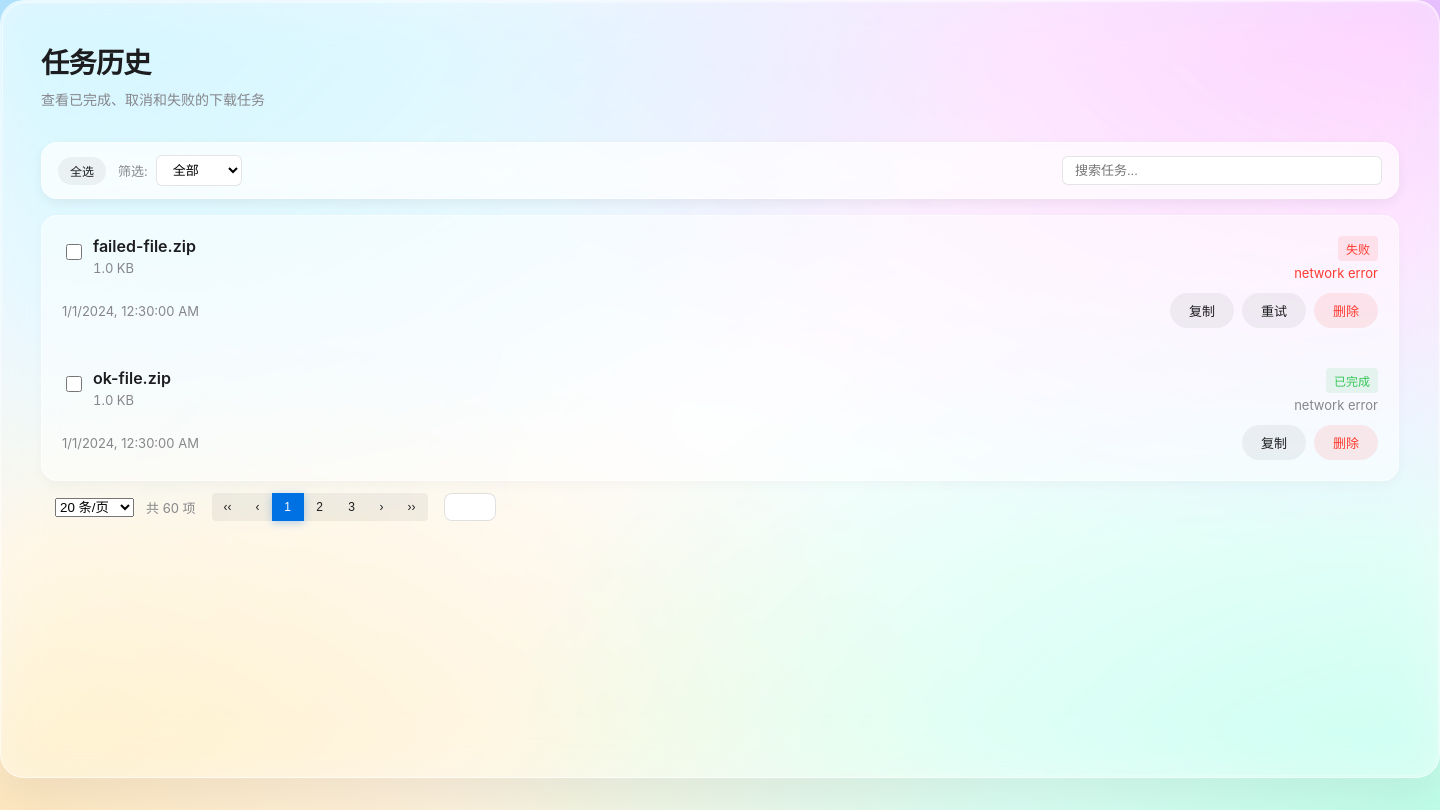
Test: HistoryPage › filter and search › changing page clears stale selection from the previous page
Expected: the heading "failed-file.zip" is shown, 93,236 -> 196,256
Click the checkbox named "选择 failed-file.zip" at {"x": 74, "y": 252}, box 66,244 -> 82,260
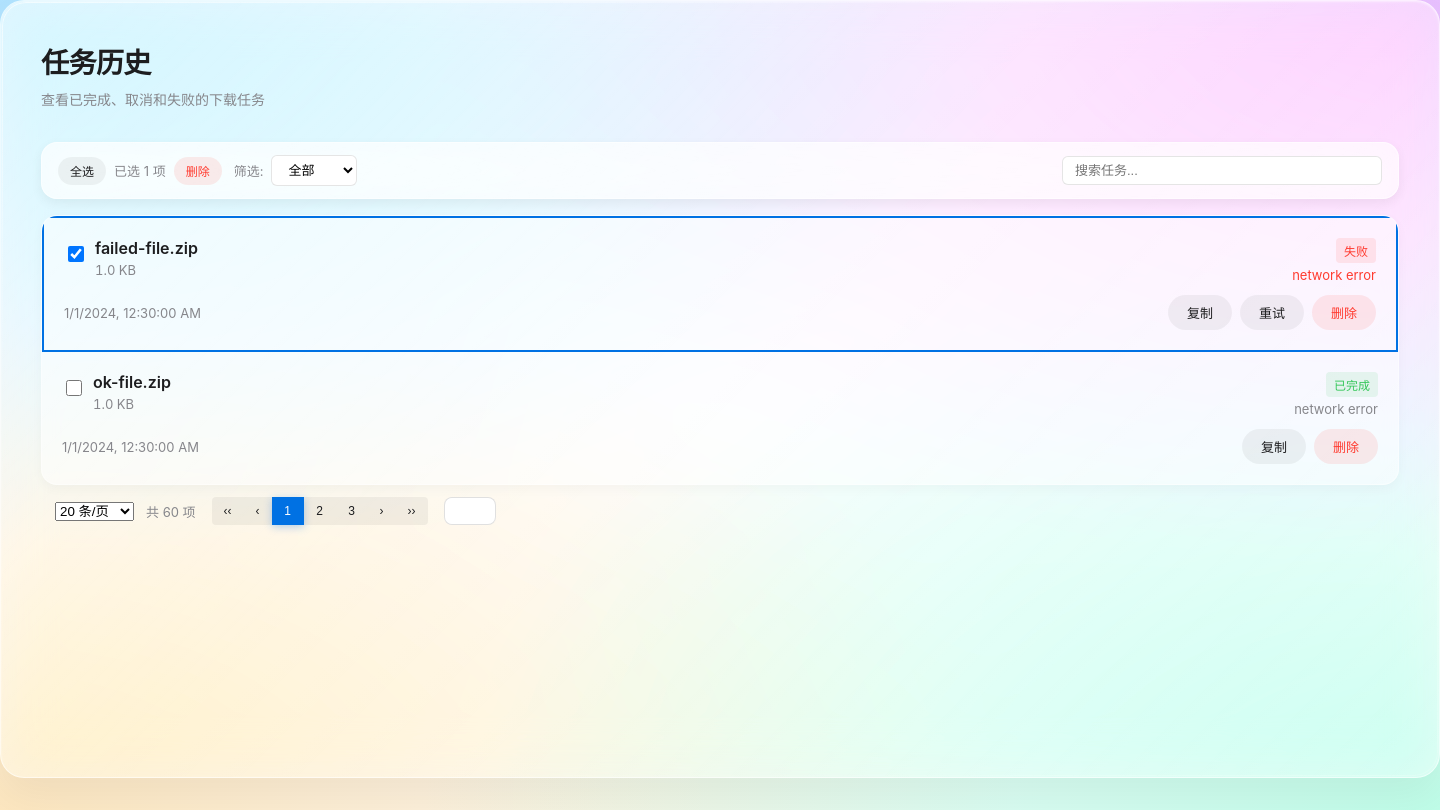
Now the text "已选 1 项" is shown, box 114,161 -> 166,180
Click the button "2" at {"x": 320, "y": 511}, box 304,497 -> 336,525
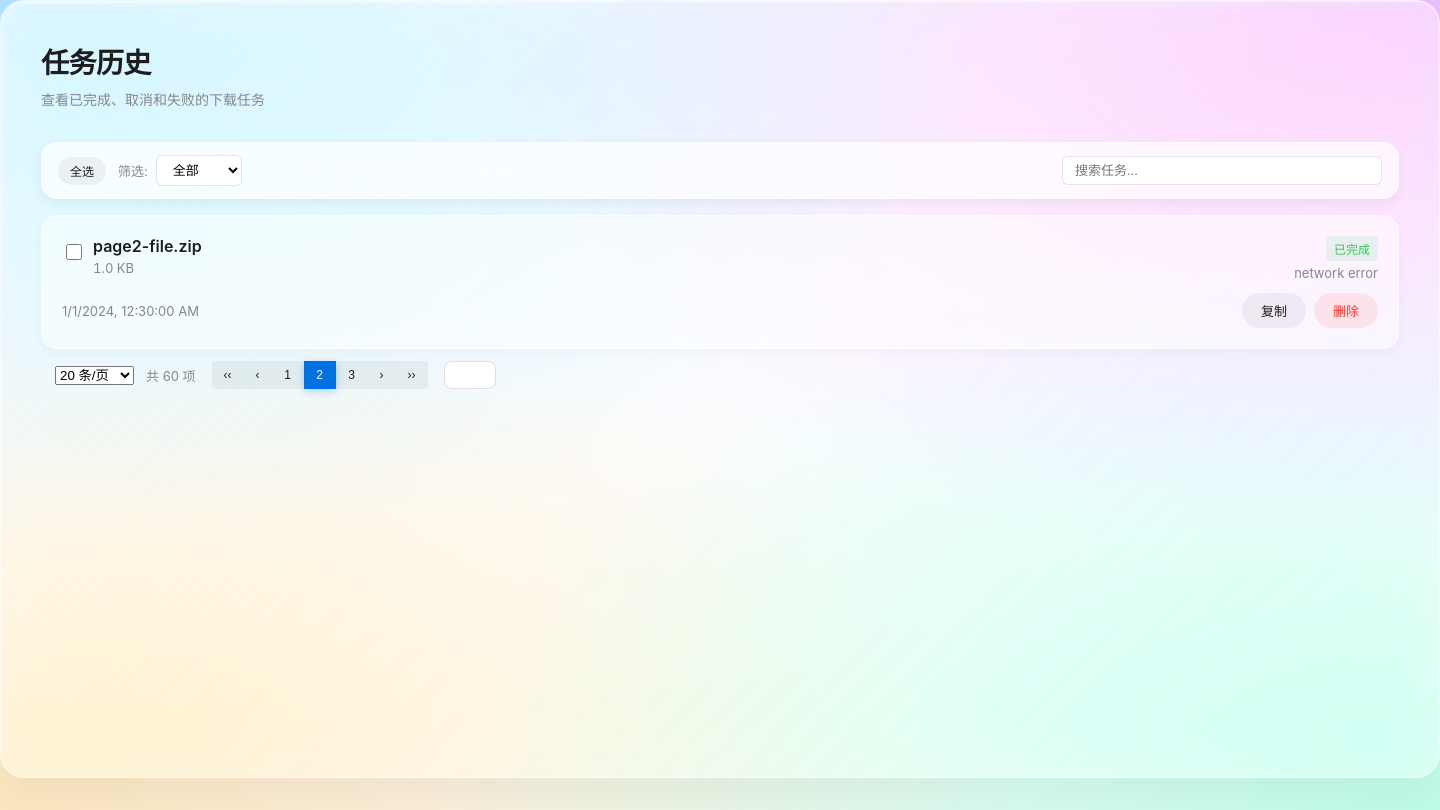
Now the heading "page2-file.zip" is shown, box 93,236 -> 202,256
Now the text "已选 1 项" is gone
